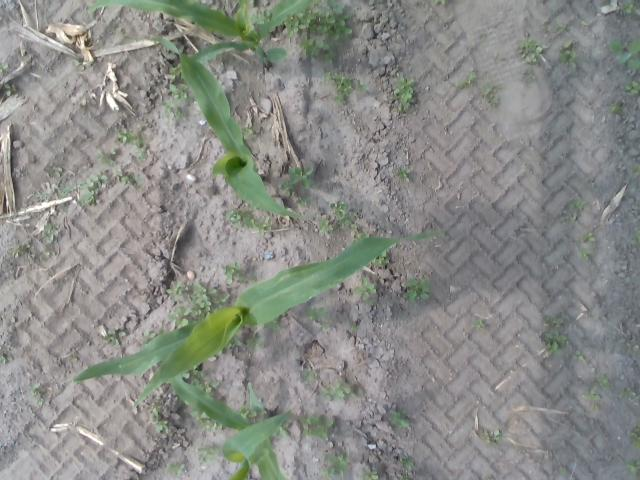Maize: (72, 230, 450, 410), (125, 35, 312, 218), (87, 0, 316, 75), (169, 373, 291, 480)
Weeds: (164, 276, 210, 324), (278, 165, 314, 208), (314, 0, 352, 38), (316, 200, 356, 234), (226, 207, 273, 235), (325, 72, 367, 103), (608, 36, 640, 74), (298, 36, 338, 66), (542, 314, 568, 356), (300, 412, 334, 442), (320, 448, 351, 480), (391, 76, 416, 115), (81, 171, 108, 206), (30, 183, 78, 202), (319, 378, 354, 404), (221, 262, 258, 286), (148, 398, 171, 435), (352, 276, 377, 308), (114, 123, 146, 148), (302, 306, 330, 332), (285, 14, 314, 39), (192, 368, 218, 394), (518, 37, 544, 63), (404, 277, 431, 302), (160, 98, 188, 121), (195, 444, 221, 468), (559, 39, 578, 70), (388, 407, 412, 431), (192, 412, 218, 434), (168, 83, 192, 106), (481, 85, 503, 110), (112, 165, 138, 186), (458, 68, 477, 92), (98, 145, 119, 166), (104, 328, 129, 345), (30, 382, 46, 408), (210, 288, 232, 306), (165, 460, 188, 477), (616, 80, 640, 96), (42, 222, 61, 242), (250, 7, 271, 25), (300, 366, 318, 386), (246, 334, 265, 352), (236, 404, 258, 419), (9, 243, 26, 262), (520, 68, 537, 87), (44, 164, 66, 178), (580, 246, 596, 265), (569, 196, 590, 210), (594, 372, 612, 388), (629, 424, 640, 450), (626, 458, 640, 478), (349, 222, 364, 240), (574, 233, 598, 244), (132, 148, 152, 161), (616, 385, 636, 398), (582, 387, 602, 400), (620, 0, 636, 16), (241, 121, 255, 139), (483, 428, 501, 442), (362, 467, 381, 480), (556, 210, 578, 221), (24, 242, 37, 260), (40, 244, 54, 260), (2, 84, 18, 98), (262, 320, 280, 332), (572, 349, 586, 363), (376, 253, 391, 266), (608, 104, 624, 116), (395, 168, 411, 180), (402, 456, 414, 470), (140, 332, 156, 342), (473, 317, 485, 330), (0, 352, 10, 366), (396, 473, 414, 480), (0, 61, 9, 75), (230, 338, 242, 348), (553, 24, 565, 34), (69, 353, 78, 364), (590, 403, 601, 412), (435, 0, 447, 8), (358, 388, 367, 398), (559, 466, 568, 476), (633, 164, 640, 176), (348, 320, 358, 328), (74, 59, 85, 66), (59, 204, 68, 212), (633, 233, 640, 243), (248, 0, 256, 7), (588, 180, 596, 187)
